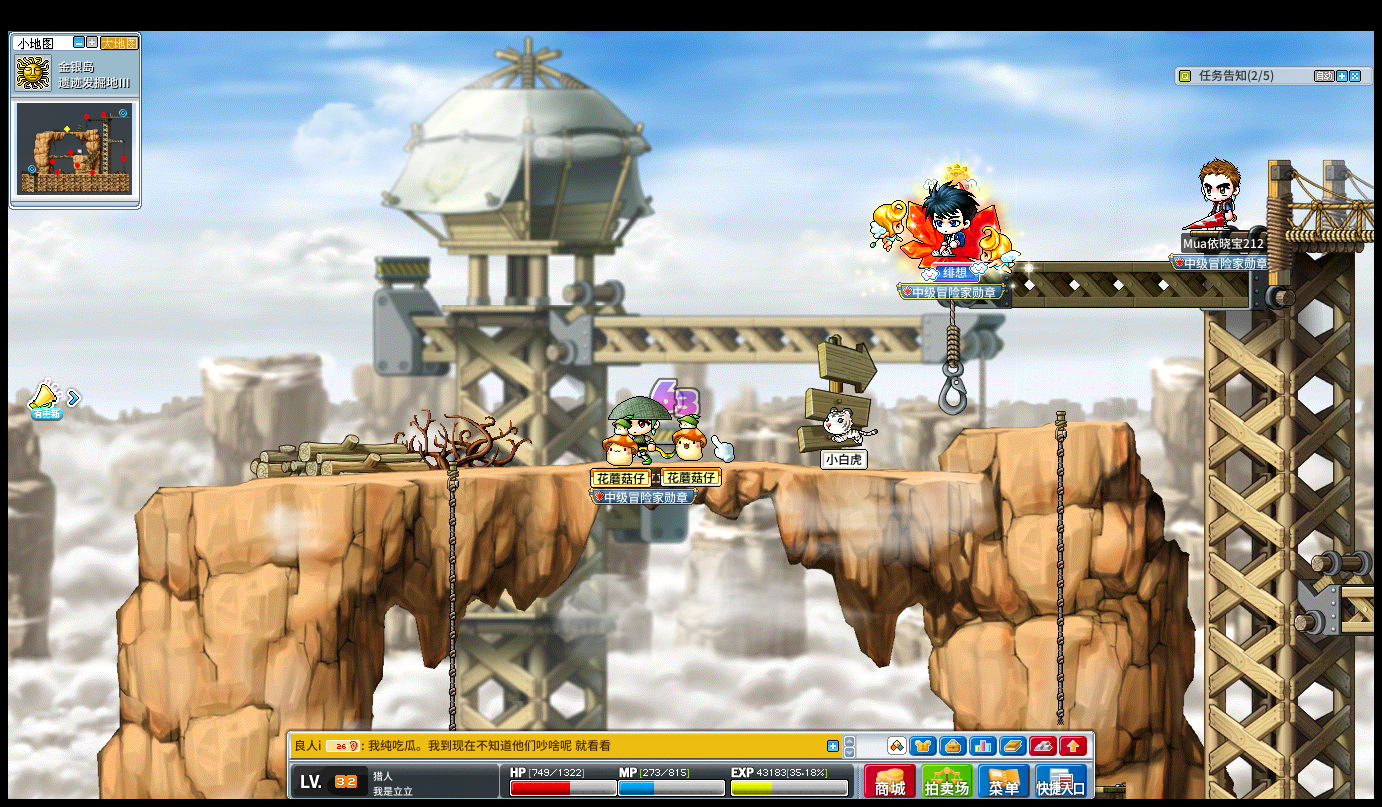floor: (146, 455, 1032, 483), (962, 417, 1131, 433), (961, 420, 1135, 435), (1343, 581, 1377, 594)
rope: (1051, 410, 1067, 728), (445, 456, 458, 765), (446, 456, 458, 671)
